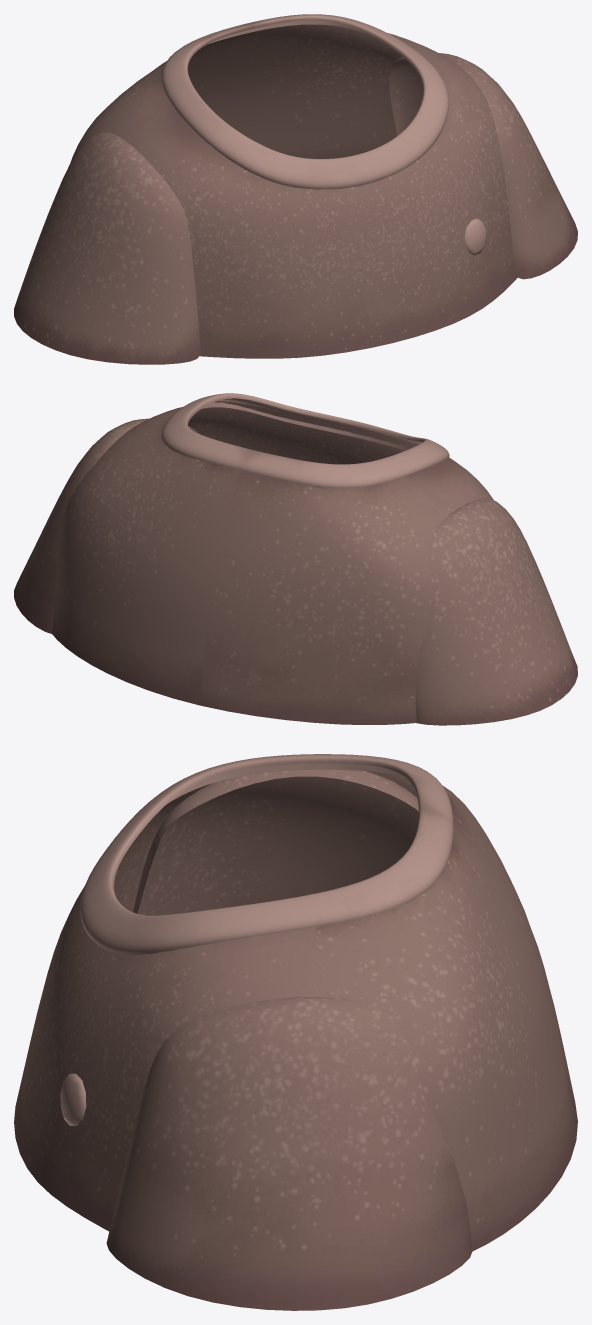
The model's file is clothe2.glb.
3 renders of one model, top to bottom at view 1: azimuth 30°, elevation 25°; view 2: azimuth 150°, elevation 25°; view 3: azimuth 270°, elevation 25°, orthographic. The views are drawn at different scales.
Visible parts, largest first — view 1: clothes.002; view 2: clothes.002; view 3: clothes.002.
Boxes of the visible parts, <box> form: clothes.002: <box>14,14,577,364</box>; clothes.002: <box>14,393,577,725</box>; clothes.002: <box>14,754,577,1310</box>.
Size of the model in its own units: 1.83 by 0.713 by 1.16.
1 material, 1 textured.
